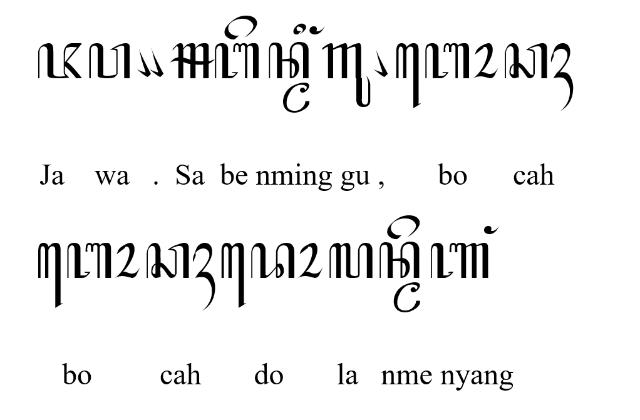S: (170, 42, 214, 77)
_h: (551, 43, 573, 111)
_h1: (192, 242, 215, 310)
_m: (282, 82, 310, 112), (394, 282, 421, 312)
b: (424, 41, 470, 78), (66, 243, 112, 280), (214, 43, 260, 79)
c: (504, 42, 548, 80), (146, 243, 190, 279)
d: (251, 243, 295, 279)
e: (386, 214, 419, 240), (225, 15, 258, 39)
e1: (37, 242, 63, 308), (396, 42, 420, 108), (222, 242, 246, 308)
gu: (322, 43, 371, 107)
i: (294, 23, 306, 35)
j: (38, 43, 82, 79)
kom: (148, 48, 164, 77), (374, 48, 388, 78), (137, 48, 151, 77)
l: (328, 243, 374, 279)
n: (268, 41, 310, 78), (378, 242, 420, 278)
ng: (309, 25, 325, 34), (484, 226, 500, 234)
ny1: (430, 241, 490, 279)
o: (472, 42, 498, 78), (116, 242, 140, 278), (298, 242, 322, 278)
w: (89, 43, 131, 79)
